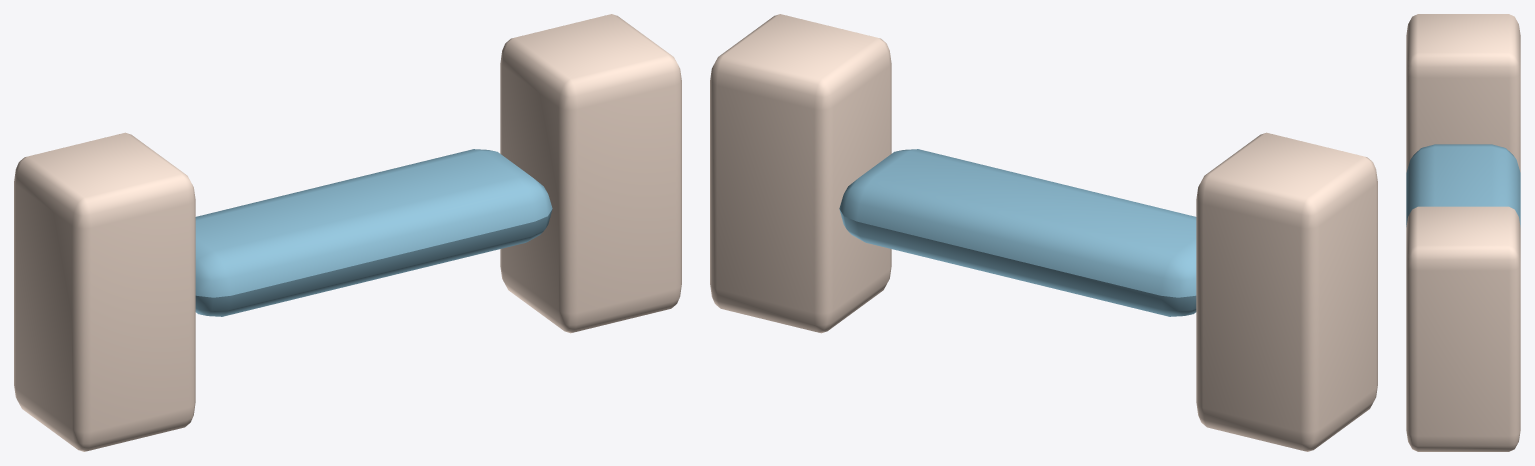
File: Props_Conveyor_Blue_Holder_01.fbx
3 renders of one model, left to right at view 1: azimuth 30°, elevation 25°; view 2: azimuth 150°, elevation 25°; view 3: azimuth 270°, elevation 25°, orthographic. The views are drawn at different scales.
Visible parts, largest first — view 1: Props_Conveyor_Blue_Holder_01; view 2: Props_Conveyor_Blue_Holder_01; view 3: Props_Conveyor_Blue_Holder_01.
Part boxes in pixels (box(x1,y1,x2,y2)): Props_Conveyor_Blue_Holder_01: box(14, 14, 681, 451); Props_Conveyor_Blue_Holder_01: box(710, 14, 1377, 451); Props_Conveyor_Blue_Holder_01: box(1406, 14, 1520, 451).
Bounding box in the file's own units: 50 × 20 × 10.
